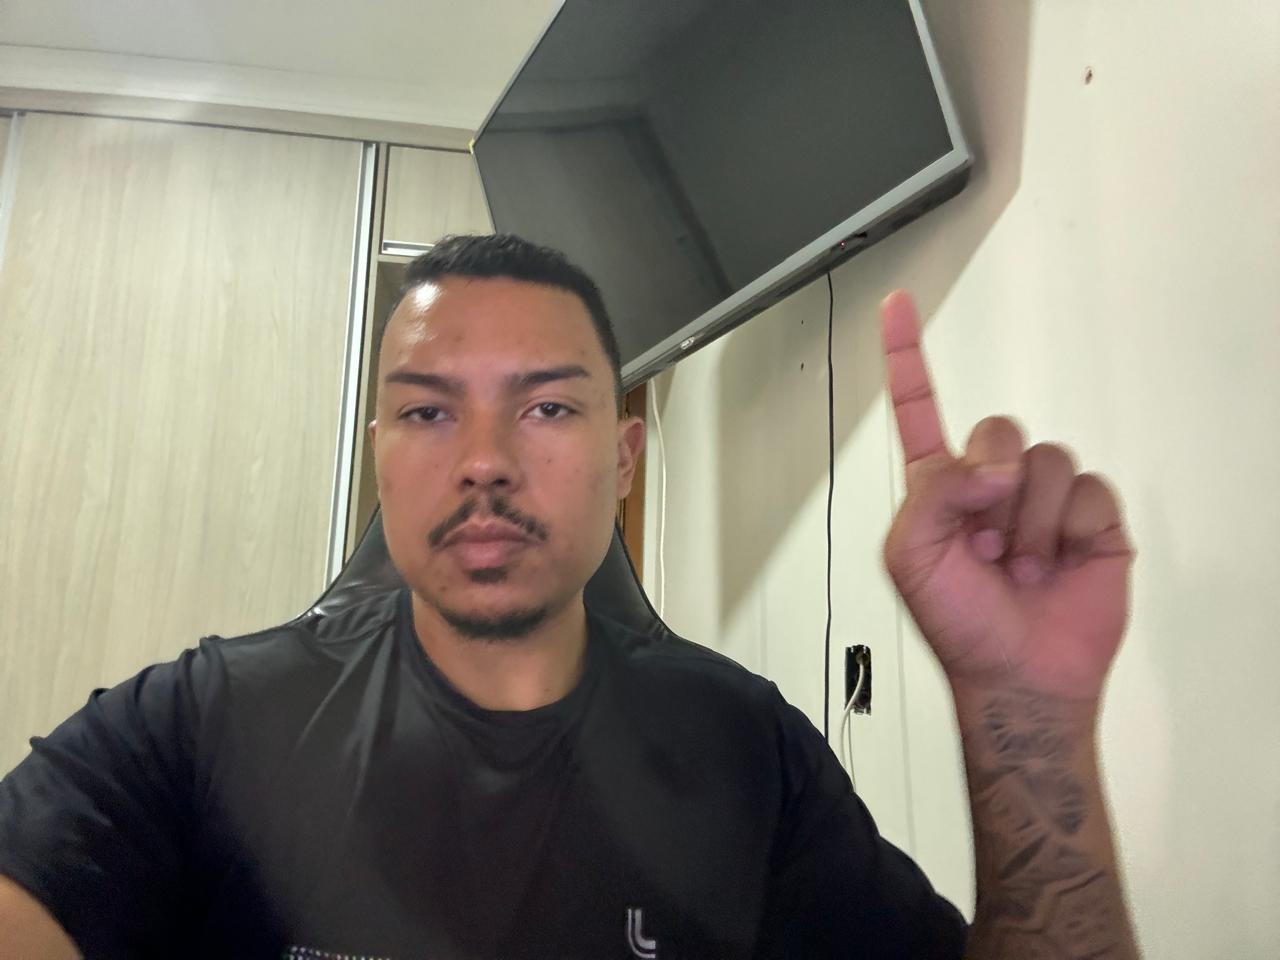z: (851, 273, 1144, 706)
